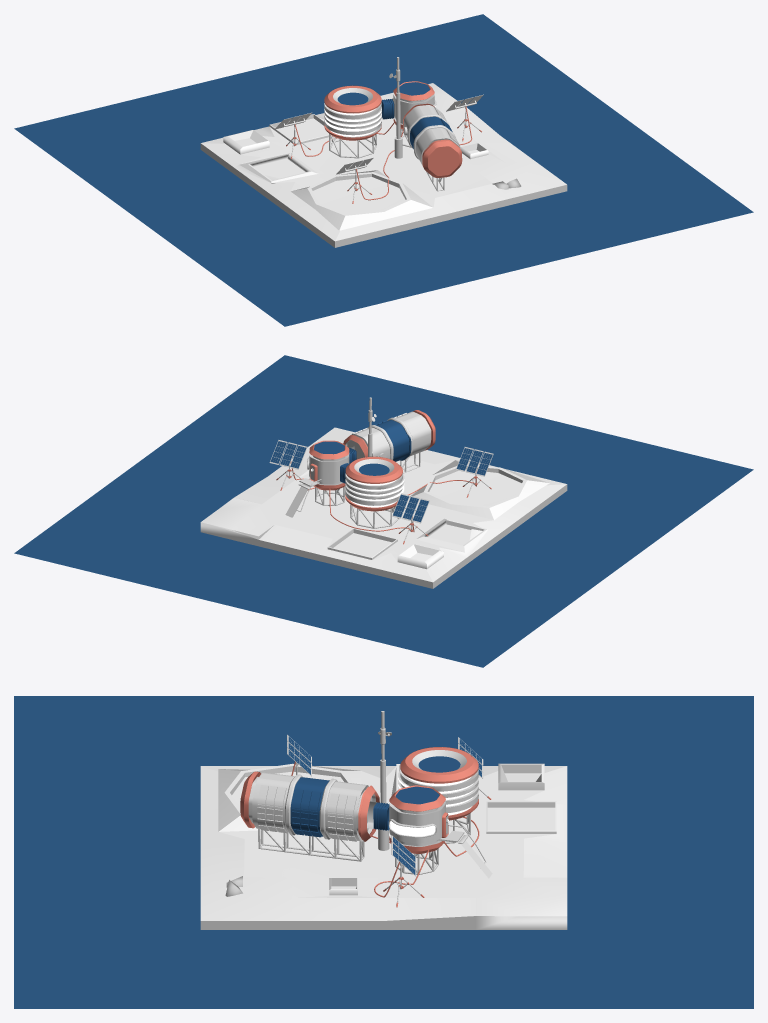
The model's file is SpaceStation.glb.
The picture shows the model from 3 angles, top to bottom: view 1: azimuth 30°, elevation 25°; view 2: azimuth 150°, elevation 25°; view 3: azimuth 270°, elevation 25°; orthographic projection. The views are drawn at different scales.
Visible parts, largest first — view 1: Cube.017, Cube.008, Cube.002, Cube, Cube.016, Cylinder.001; view 2: Cube.017, Cube.008, Cube.002, Cube, Cube.016; view 3: Cube.017, Cube.008, Cube.002, Cube.015, Cube, Cube.016, Cylinder.001, Cube.009, Cube.014.
Boxes of the visible parts, x1=… form: Cube.017: x1=14, y1=14, x2=753, y2=326; Cube.008: x1=403, y1=103, x2=462, y2=177; Cube.002: x1=324, y1=85, x2=381, y2=140; Cube: x1=393, y1=81, x2=434, y2=129; Cube.016: x1=329, y1=129, x2=444, y2=191; Cylinder.001: x1=394, y1=57, x2=402, y2=158; Cube.017: x1=14, y1=355, x2=753, y2=667; Cube.008: x1=343, y1=410, x2=435, y2=461; Cube.002: x1=345, y1=456, x2=404, y2=511; Cube: x1=309, y1=440, x2=349, y2=490; Cube.016: x1=315, y1=452, x2=420, y2=528; Cube.017: x1=14, y1=696, x2=753, y2=1008; Cube.008: x1=240, y1=771, x2=379, y2=841; Cube.002: x1=398, y1=747, x2=478, y2=820; Cube.015: x1=257, y1=785, x2=357, y2=841; Cube: x1=389, y1=785, x2=445, y2=853; Cube.016: x1=258, y1=813, x2=470, y2=874; Cylinder.001: x1=378, y1=711, x2=389, y2=850; Cube.009: x1=367, y1=801, x2=389, y2=830; Cube.014: x1=388, y1=819, x2=436, y2=837.
Bounding box in the file's own units: 55.2 × 12.64 × 55.2.
